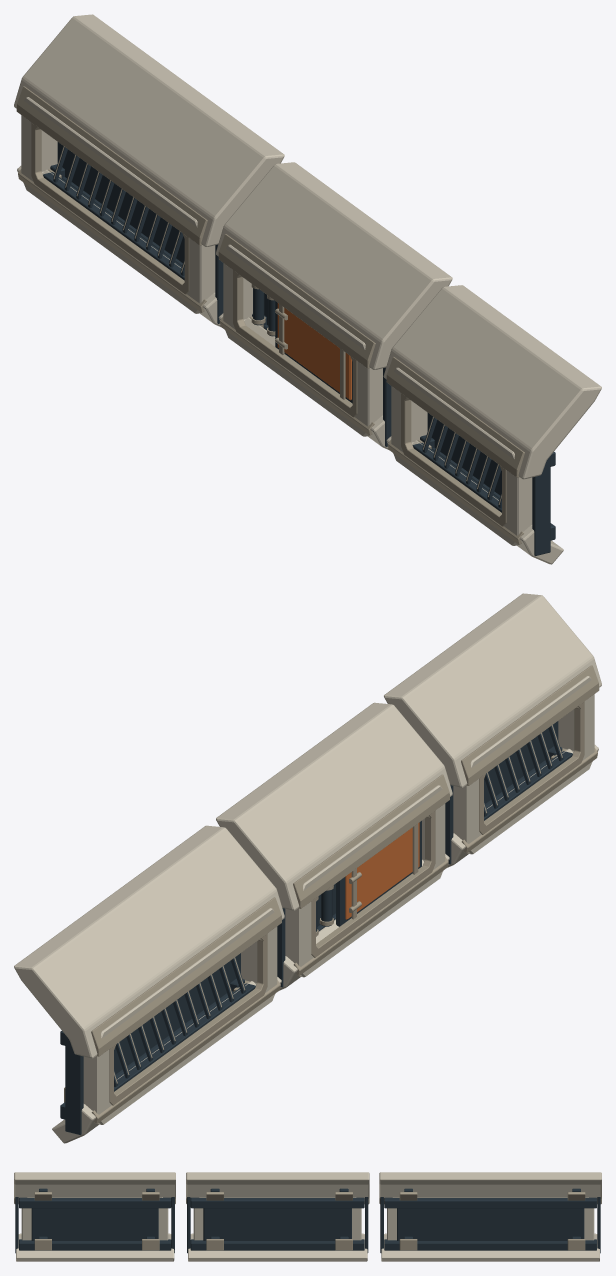
File: companion-armour.glb
3 renders of one model, top to bottom at view 1: azimuth 30°, elevation 25°; view 2: azimuth 150°, elevation 25°; view 3: azimuth 270°, elevation 25°, orthographic. The views are drawn at different scales.
Visible parts, largest first — view 1: nomad_companion_armour__warm_ivory_armour, nomad_companion_armour__rubbed_warm_alloy, nomad_companion_armour__navy_structural_steel, nomad_companion_armour__oxide_freight_enamel; view 2: nomad_companion_armour__warm_ivory_armour, nomad_companion_armour__rubbed_warm_alloy, nomad_companion_armour__navy_structural_steel, nomad_companion_armour__oxide_freight_enamel; view 3: nomad_companion_armour__navy_structural_steel, nomad_companion_armour__warm_ivory_armour, nomad_companion_armour__rubbed_warm_alloy.
Boxes of the visible parts, box(x1,y1,x2,y2) form: nomad_companion_armour__warm_ivory_armour: box(14, 14, 601, 564); nomad_companion_armour__rubbed_warm_alloy: box(16, 86, 524, 544); nomad_companion_armour__navy_structural_steel: box(43, 142, 555, 555); nomad_companion_armour__oxide_freight_enamel: box(277, 303, 351, 400); nomad_companion_armour__warm_ivory_armour: box(14, 593, 601, 1143); nomad_companion_armour__rubbed_warm_alloy: box(64, 665, 599, 1123); nomad_companion_armour__navy_structural_steel: box(60, 721, 572, 1134); nomad_companion_armour__oxide_freight_enamel: box(345, 822, 419, 919); nomad_companion_armour__navy_structural_steel: box(15, 1188, 600, 1253); nomad_companion_armour__warm_ivory_armour: box(14, 1172, 601, 1261); nomad_companion_armour__rubbed_warm_alloy: box(20, 1192, 595, 1250).
Size of the model in its own units: 27.62 by 55.22 by 301.
